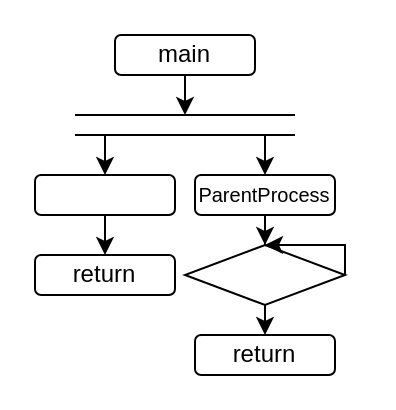
This 396x410 diagram has some shape labels left out. Here are the shapes that lost their labels. From the top down, the centre of each, then its label:
point 104,194: ChildProcess
point 264,274: wait
